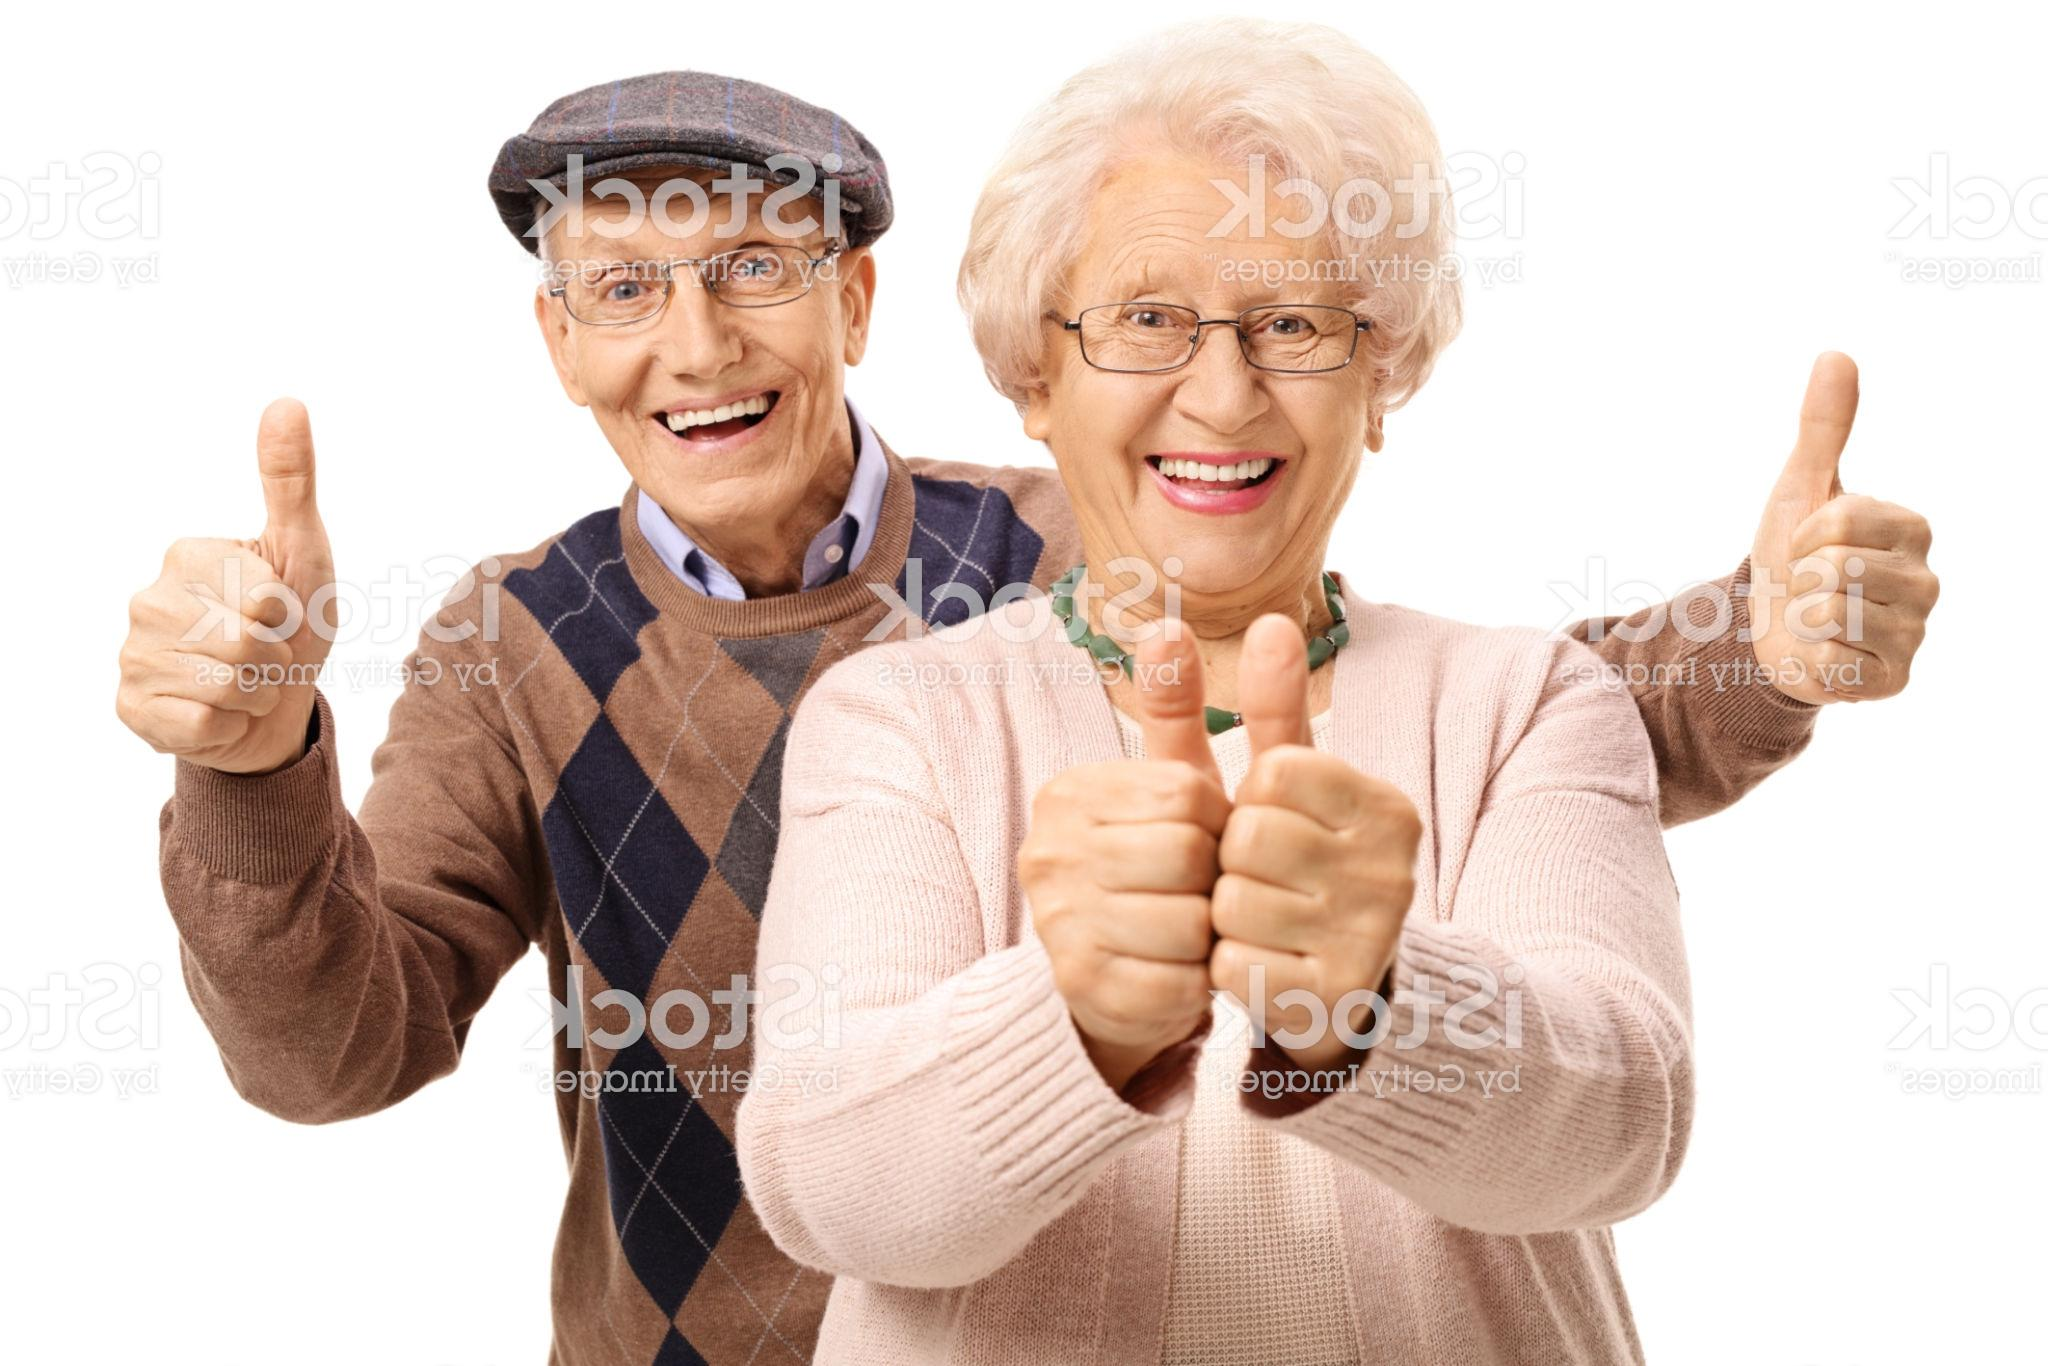thumbsup: (1208, 608, 1426, 1046), (1012, 614, 1224, 1047), (111, 393, 343, 778), (1749, 349, 1940, 717)
